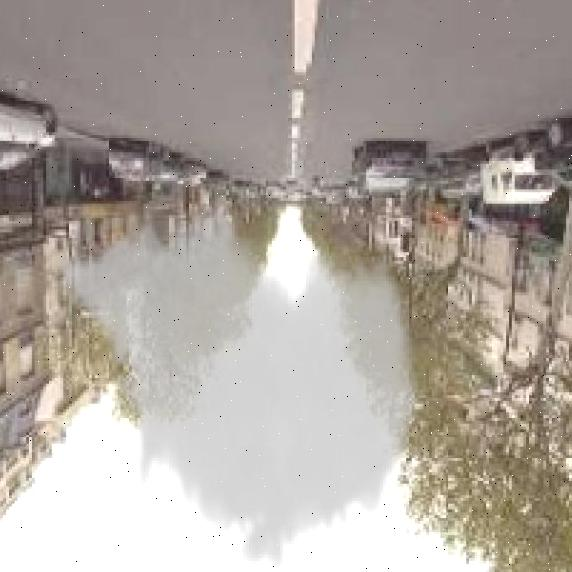smoke: (55, 192, 423, 572)
